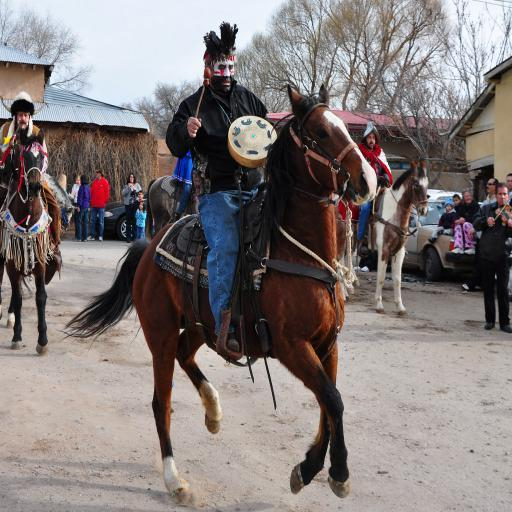horse: (60, 86, 378, 510), (335, 156, 430, 318), (0, 125, 62, 355)
